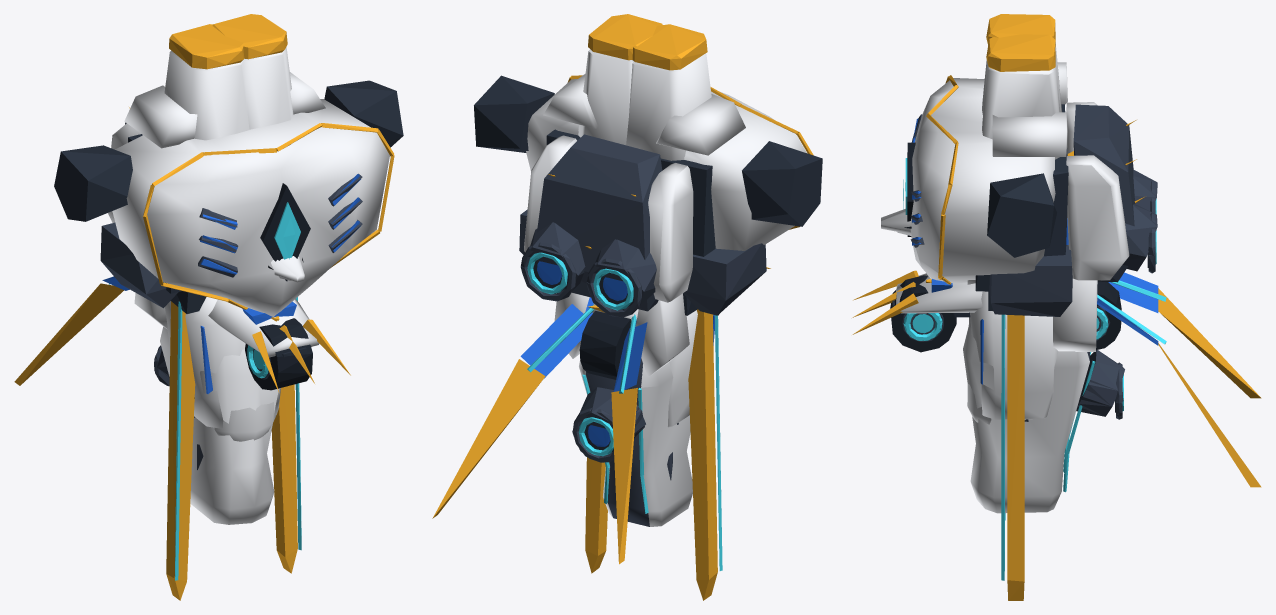
File: sunhawk-updated-lod2.glb
The picture shows the model from 3 angles, left to right: view 1: azimuth 30°, elevation 25°; view 2: azimuth 150°, elevation 25°; view 3: azimuth 270°, elevation 25°; orthographic projection. The views are drawn at different scales.
Visible parts, largest first — view 1: chest_chest_P, kneeL_shins_P, chest_chest_K, elR_armR_T, towerR_shoulders_P, chest_chest_F, elL_armL_T, elR_armR_P, towerL_shoulders_P, chest_chest_T, towerR_shoulders_T, kneeR_shins_P (+16 smaller); view 2: chest_backpack_F, chest_chest_P, chest_chest_K, chest_backpack_P, elR_armR_T, towerR_shoulders_P, kneeR_shins_P, chest_chest_F, towerL_shoulders_P, kneeL_shins_P, wingL_backpack_T, wingR_backpack_T (+17 smaller); view 3: chest_chest_P, kneeR_shins_P, chest_backpack_P, chest_backpack_F, chest_chest_K, elL_armL_P, elL_armL_T, kneeL_shins_P, chest_chest_F, towerL_shoulders_P, skirtL_hips_P, ankleR_feet_D (+15 smaller).
Boxes of the visible parts, x1,y1,x2,y2 form: chest_chest_P: [112, 72, 389, 316]; kneeL_shins_P: [160, 326, 278, 524]; chest_chest_K: [54, 80, 403, 293]; elR_armR_T: [166, 301, 195, 600]; towerR_shoulders_P: [164, 50, 249, 140]; chest_chest_F: [100, 173, 362, 308]; elL_armL_T: [271, 384, 297, 573]; elR_armR_P: [165, 297, 243, 428]; towerL_shoulders_P: [243, 47, 293, 129]; chest_chest_T: [143, 123, 394, 321]; towerR_shoulders_T: [169, 24, 244, 69]; kneeR_shins_P: [191, 355, 278, 524]; chest_backpack_F: [520, 134, 662, 317]; chest_chest_P: [526, 73, 806, 250]; chest_chest_K: [474, 75, 822, 256]; chest_backpack_P: [524, 135, 693, 302]; elR_armR_T: [688, 309, 717, 600]; towerR_shoulders_P: [626, 53, 711, 160]; kneeR_shins_P: [579, 360, 692, 526]; chest_chest_F: [519, 209, 766, 315]; towerL_shoulders_P: [578, 49, 632, 145]; kneeL_shins_P: [579, 362, 692, 526]; wingL_backpack_T: [432, 359, 545, 518]; wingR_backpack_T: [611, 388, 637, 564]; chest_chest_P: [910, 62, 1067, 283]; kneeR_shins_P: [963, 280, 1089, 513]; chest_backpack_P: [1066, 102, 1129, 280]; chest_backpack_F: [1073, 104, 1157, 282]; chest_chest_K: [975, 104, 1068, 291]; elL_armL_P: [970, 291, 1058, 419]; elL_armL_T: [1007, 315, 1024, 600]; kneeL_shins_P: [963, 280, 1089, 513]; chest_chest_F: [910, 114, 1072, 316]; towerL_shoulders_P: [982, 65, 1060, 159]; skirtL_hips_P: [1053, 279, 1097, 351]; ankleR_feet_D: [890, 275, 1121, 352].
Bounding box in the file's own units: 2.88 × 4.8 × 3.32.
